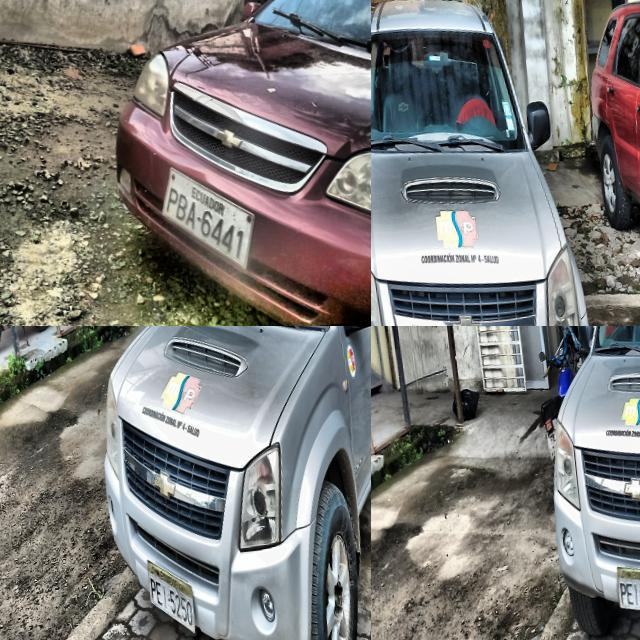license_plate: (157, 160, 259, 273), (146, 557, 197, 637), (615, 562, 640, 613)
